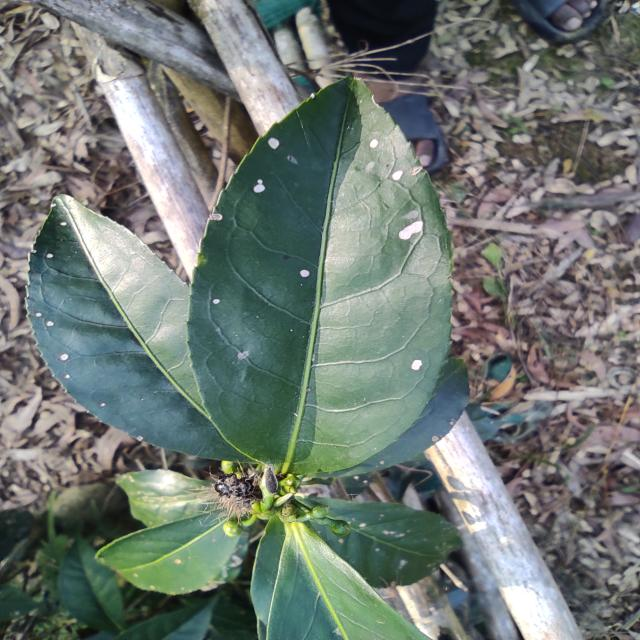Category D 7+ days, Not for Tea: (184, 69, 466, 488)
